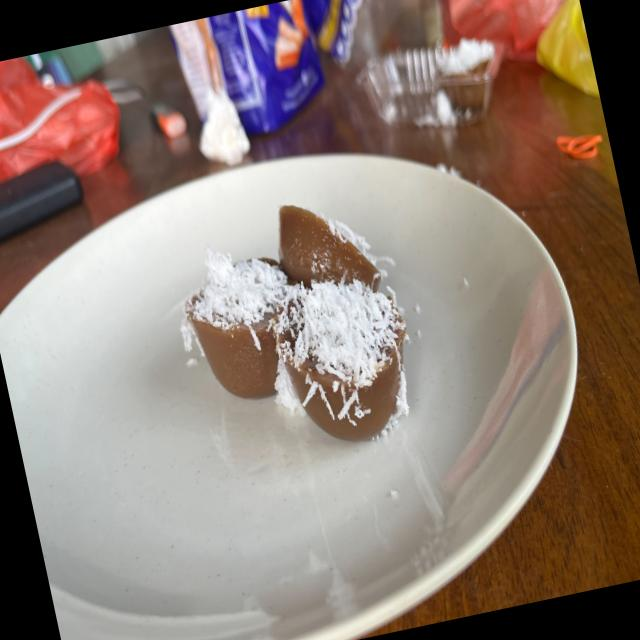Kuih lompang: (273, 280, 408, 440), (181, 246, 287, 397), (278, 204, 381, 291)
